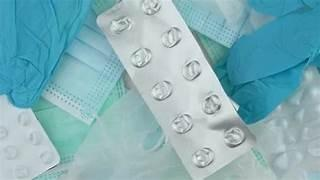Glove: (0, 0, 89, 107)
pill_Strip: (97, 0, 254, 178), (0, 96, 59, 179), (172, 114, 193, 134), (182, 60, 200, 80), (230, 98, 239, 110)
